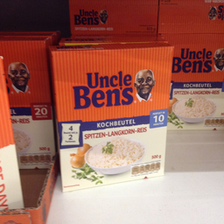rice: (48, 43, 175, 193), (1, 35, 54, 170), (163, 34, 224, 131)
